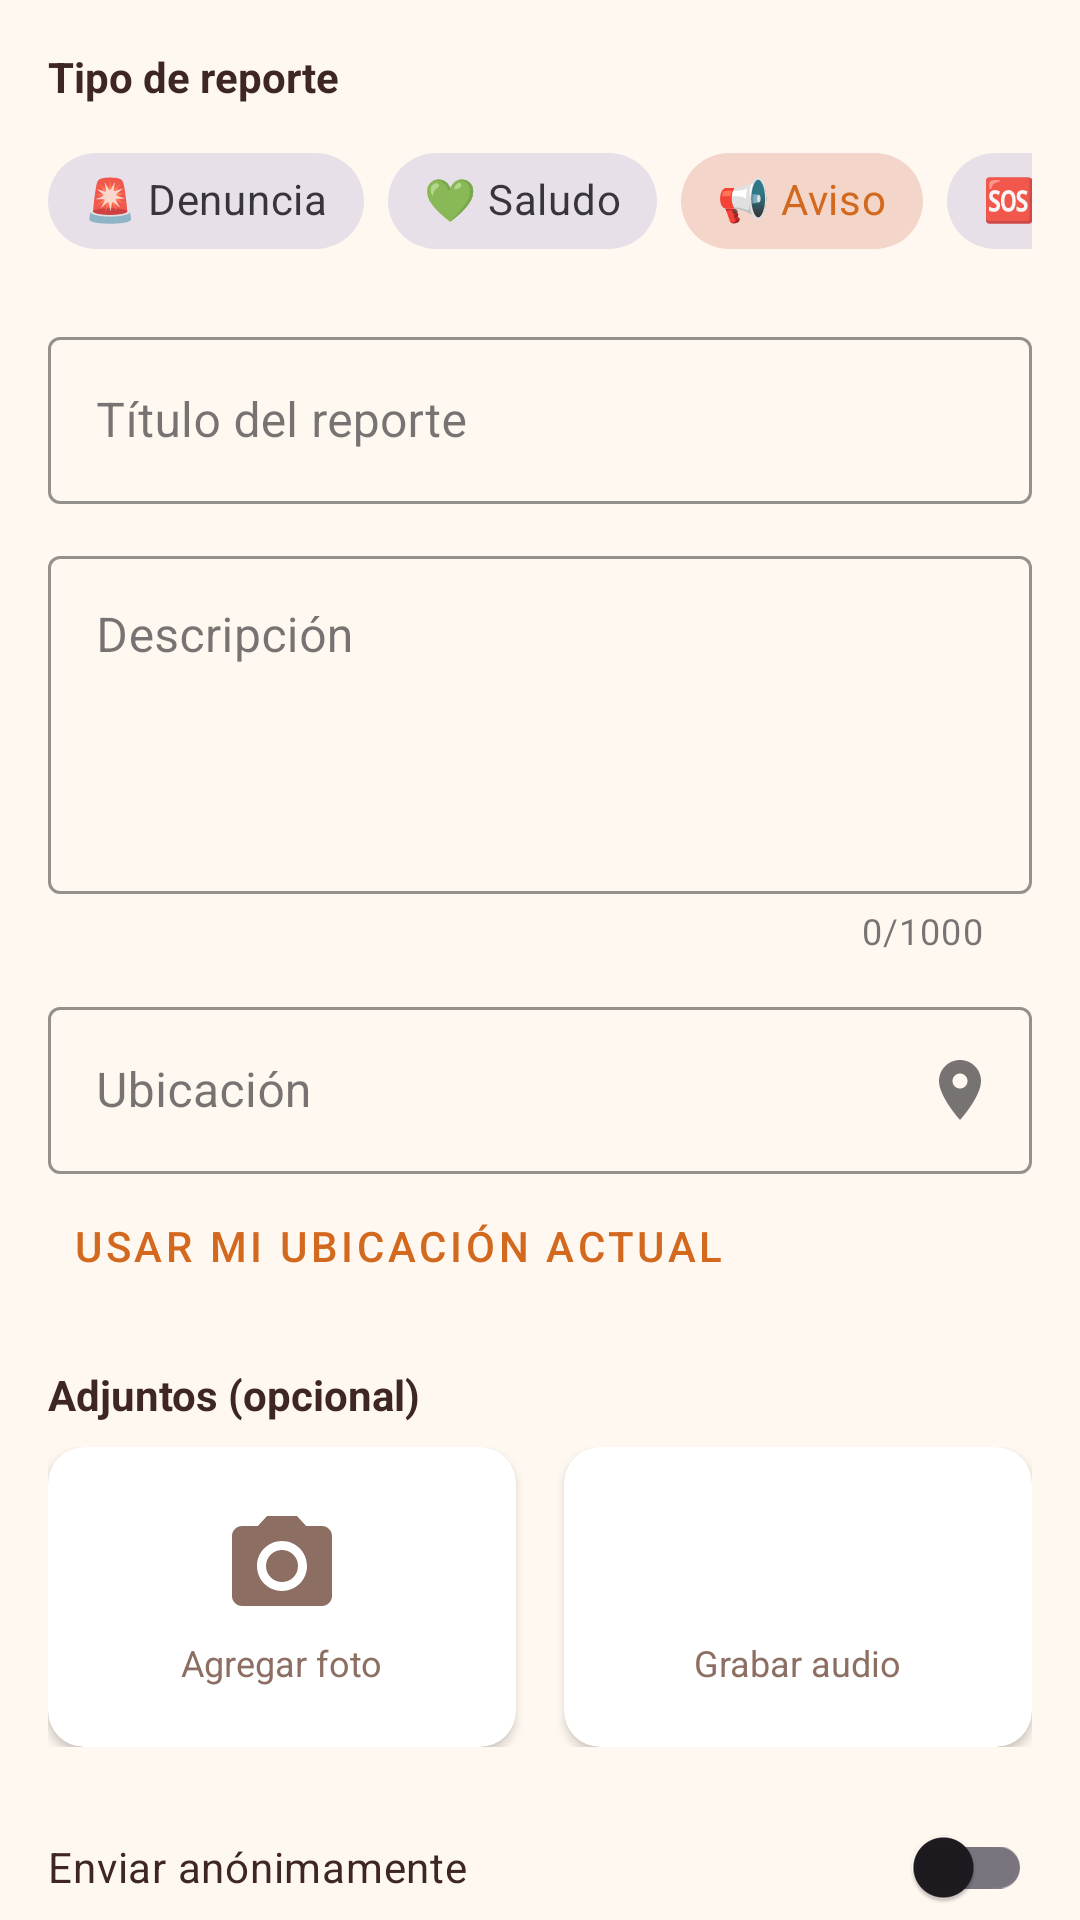

Locate icon controls on the screen. Image size 1080x1920, boxes as [x1=x1, y1=y1, x2=x2, y2=y2].
camera: [x1=232, y1=1516, x2=332, y2=1606]
